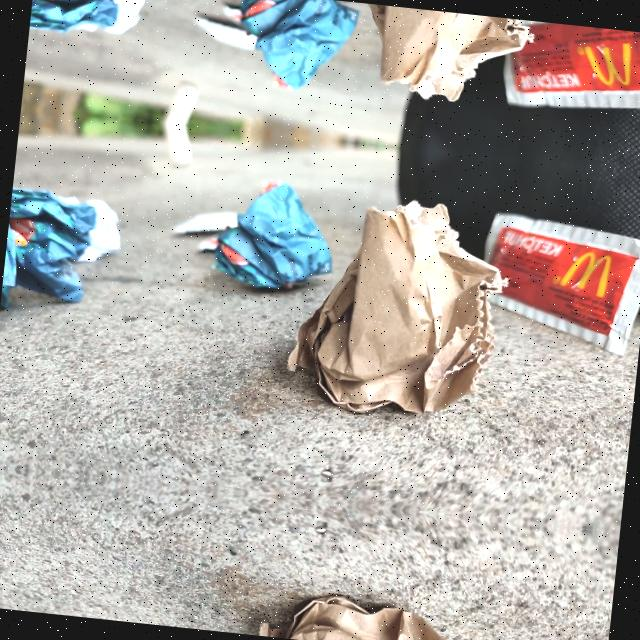paper: (278, 180, 513, 436), (311, 0, 532, 115), (213, 173, 339, 305), (0, 171, 100, 331), (255, 575, 472, 640), (235, 0, 358, 95), (55, 182, 138, 270), (28, 0, 122, 51), (78, 0, 160, 49)
